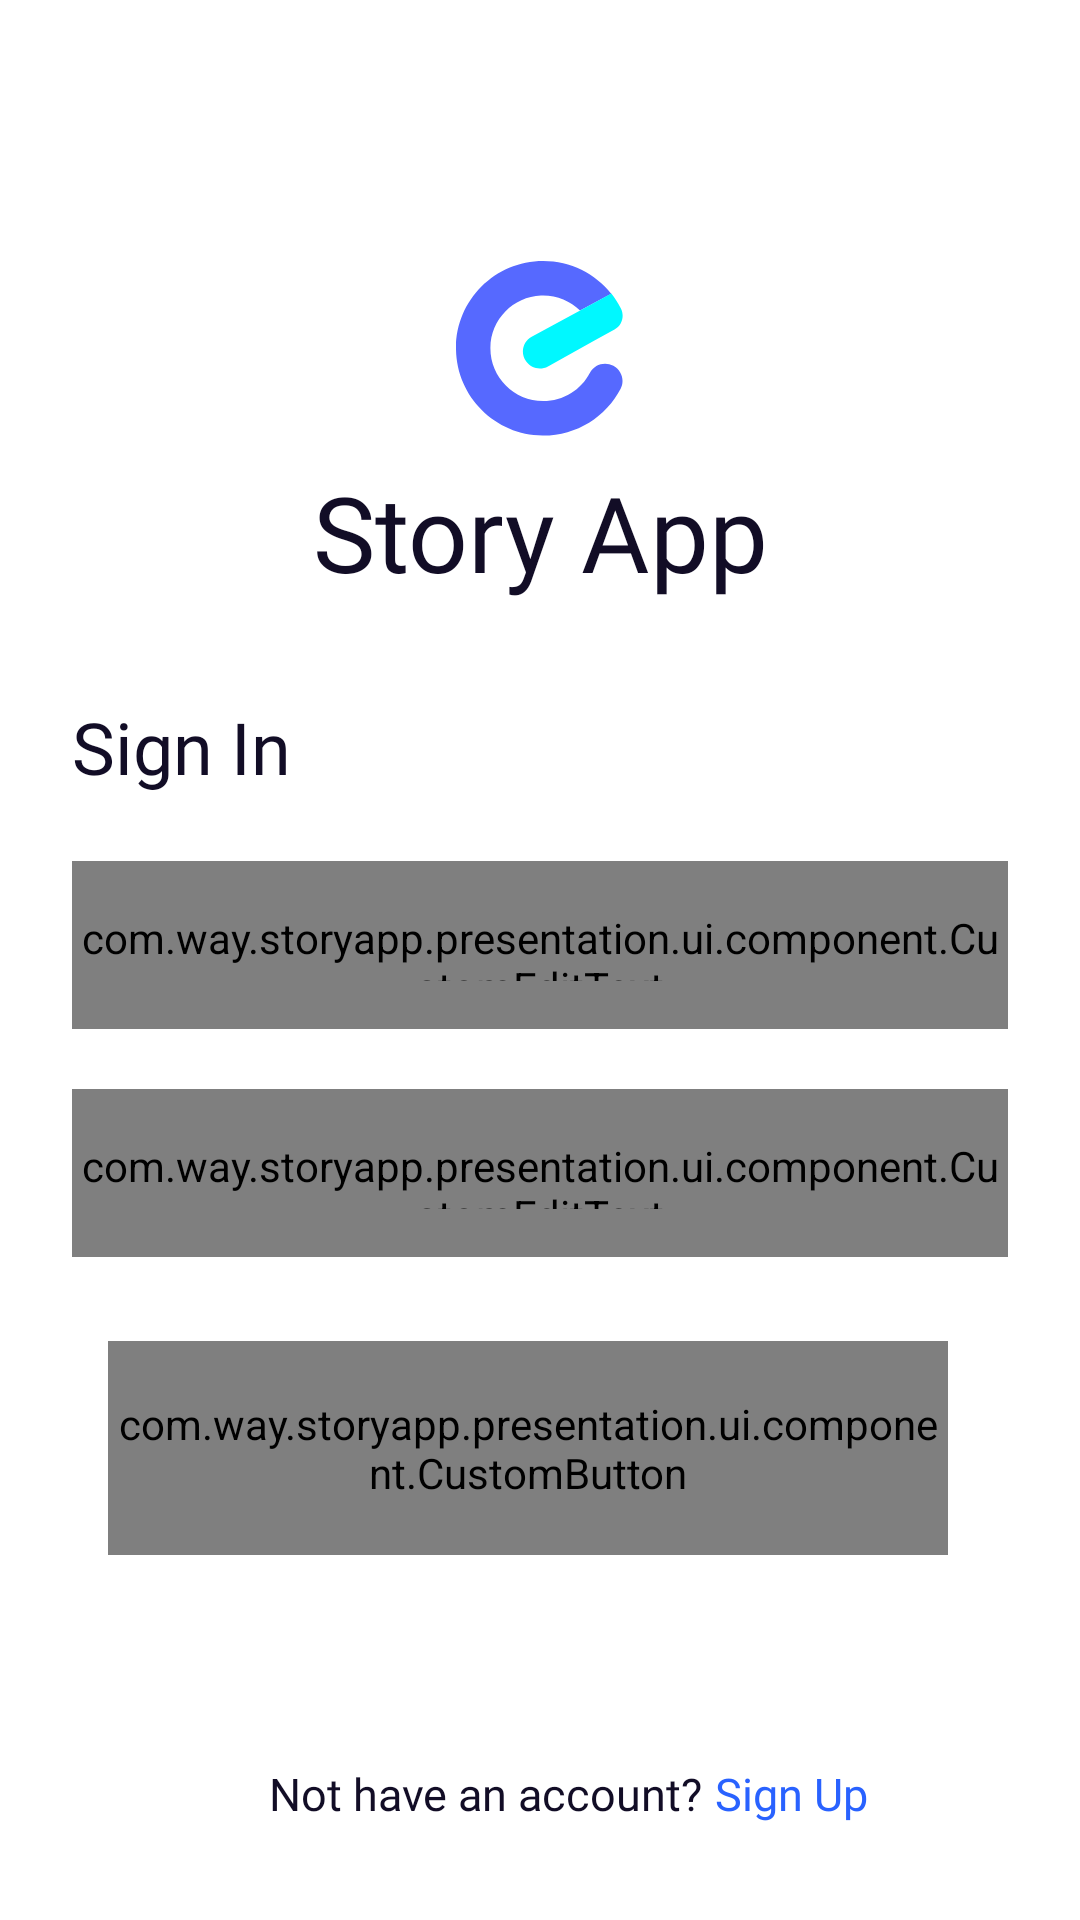

Screen size 1080 × 1920. Icon name, then its box in pixels as (x1, y1, x2, y2):
application: (456, 261, 623, 436)
